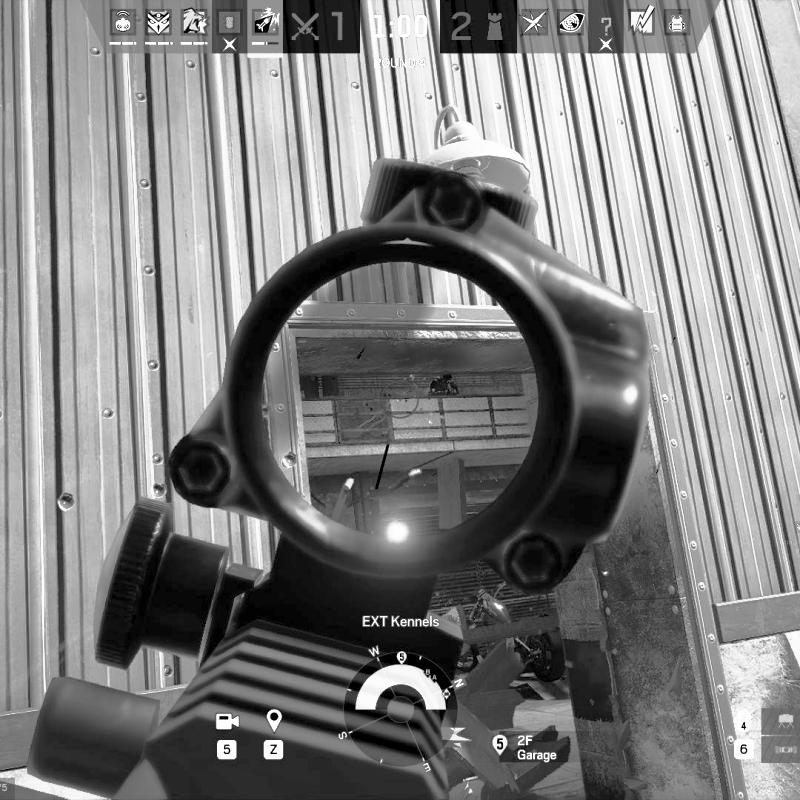Character: (427, 373, 459, 398)
Head: (442, 373, 452, 382)
